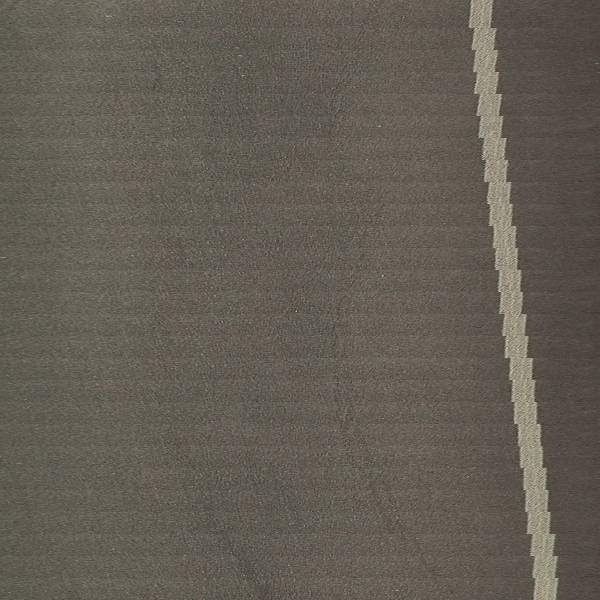road_damage: (330, 357, 435, 579)
